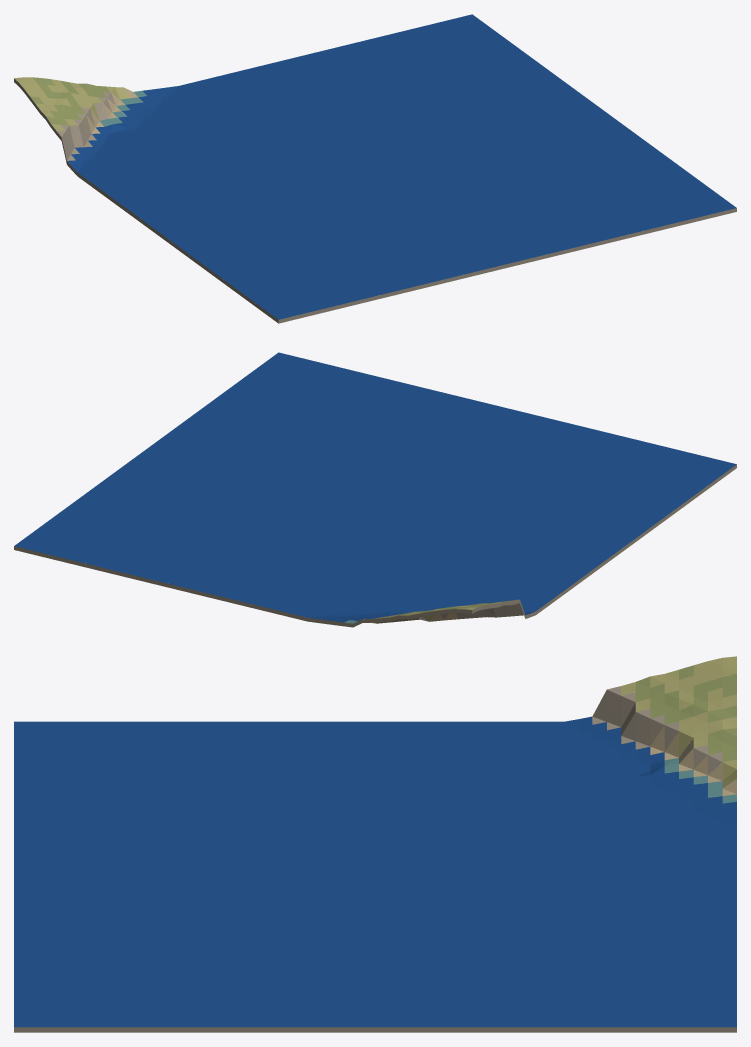
File: parca_+7_-10-uzak.glb
The picture shows the model from 3 angles, top to bottom: view 1: azimuth 30°, elevation 25°; view 2: azimuth 150°, elevation 25°; view 3: azimuth 270°, elevation 25°; orthographic projection. The views are drawn at different scales.
Parts seen in each view (by area): view 1: parca_+7_-10_arazi_uzak; view 2: parca_+7_-10_arazi_uzak; view 3: parca_+7_-10_arazi_uzak.
Boxes of the visible parts, x1,y1,x2,y2 form: parca_+7_-10_arazi_uzak: (14, 14, 736, 323); parca_+7_-10_arazi_uzak: (14, 352, 736, 627); parca_+7_-10_arazi_uzak: (14, 656, 736, 1032).
Bounding box in the file's own units: 1000 × 108 × 1000.
